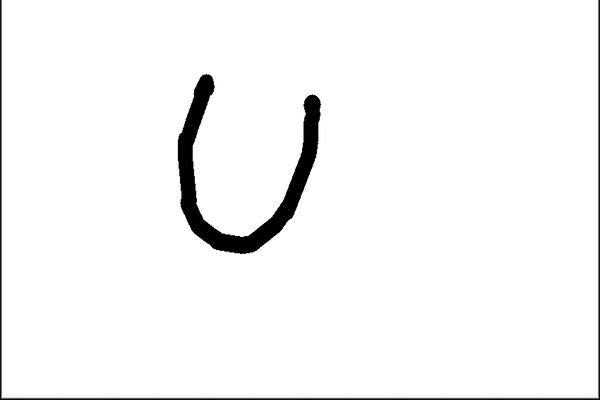U: (164, 65, 327, 261)
